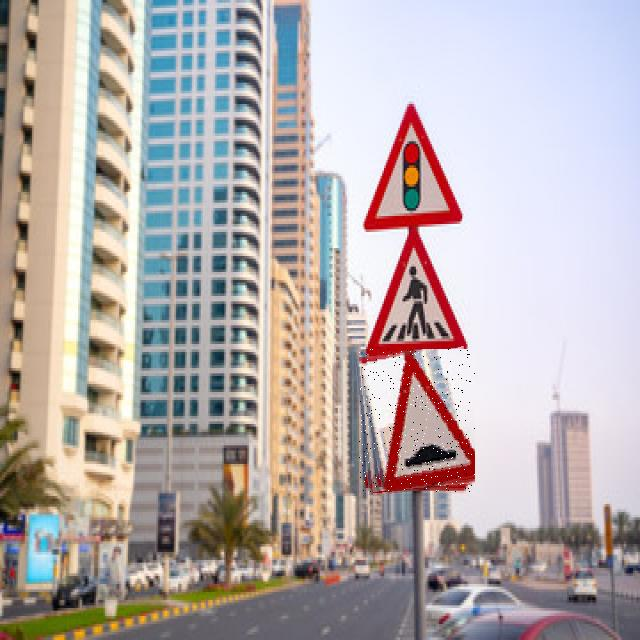hump: (359, 349, 475, 492)
